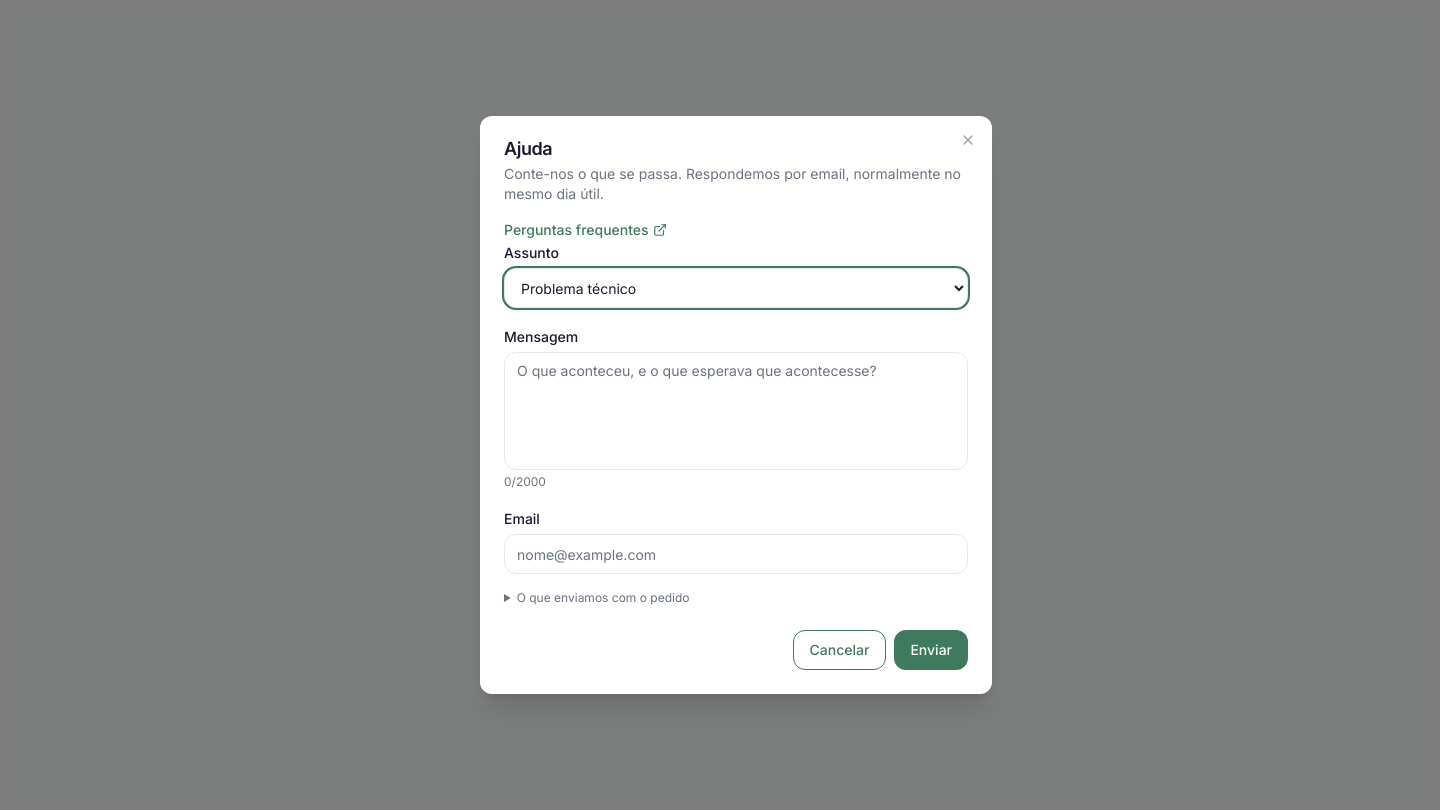
HelpDialog — signed out › sends the form with the captured context and shows the reference
This screenshot has width=1440, height=810.
Select "Pagamento" in the dropdown labelled "Assunto": {"x": 736, "y": 288} [504, 268, 968, 308]
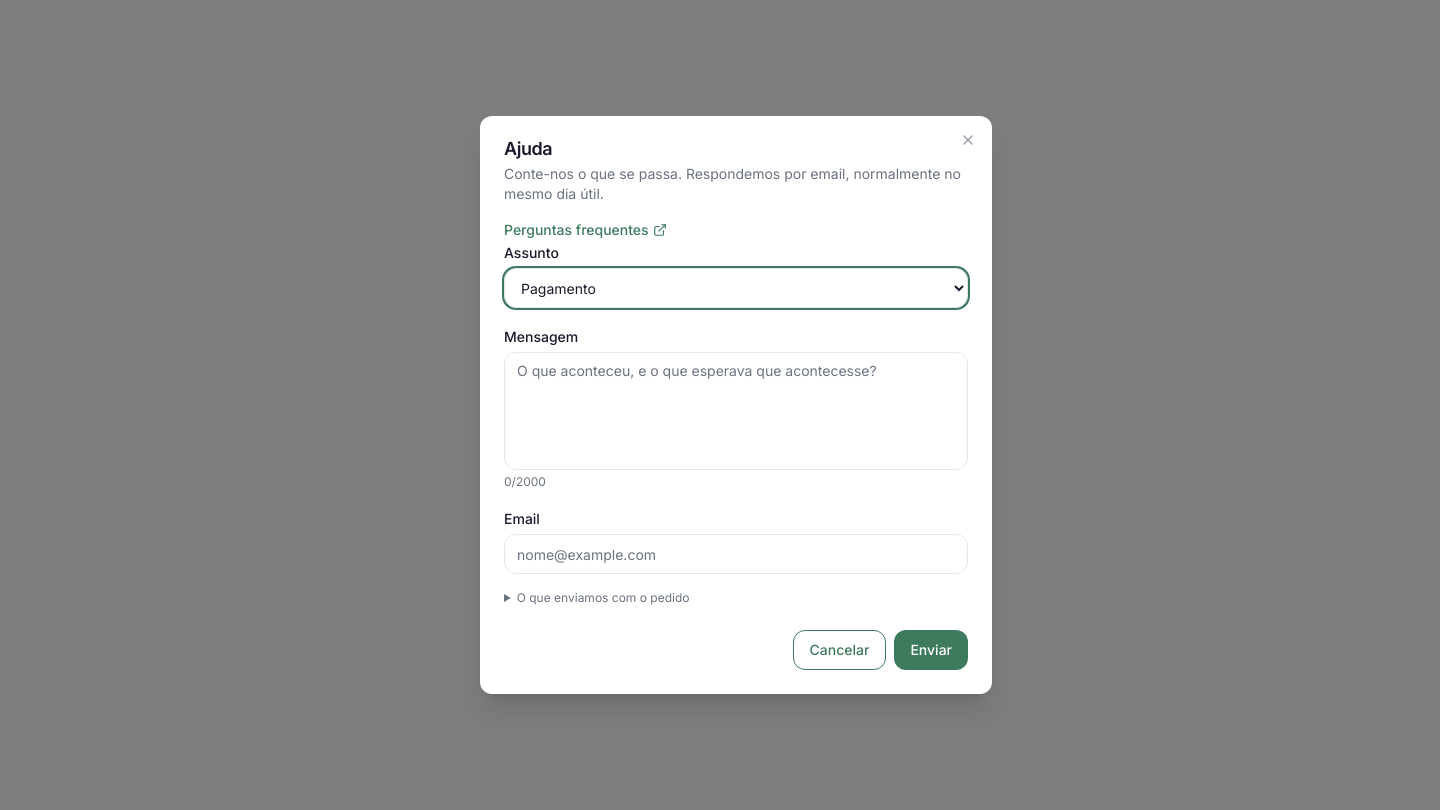
In the field labelled "Email": {"x": 736, "y": 554} [504, 534, 968, 574], type "visitante@example.com"
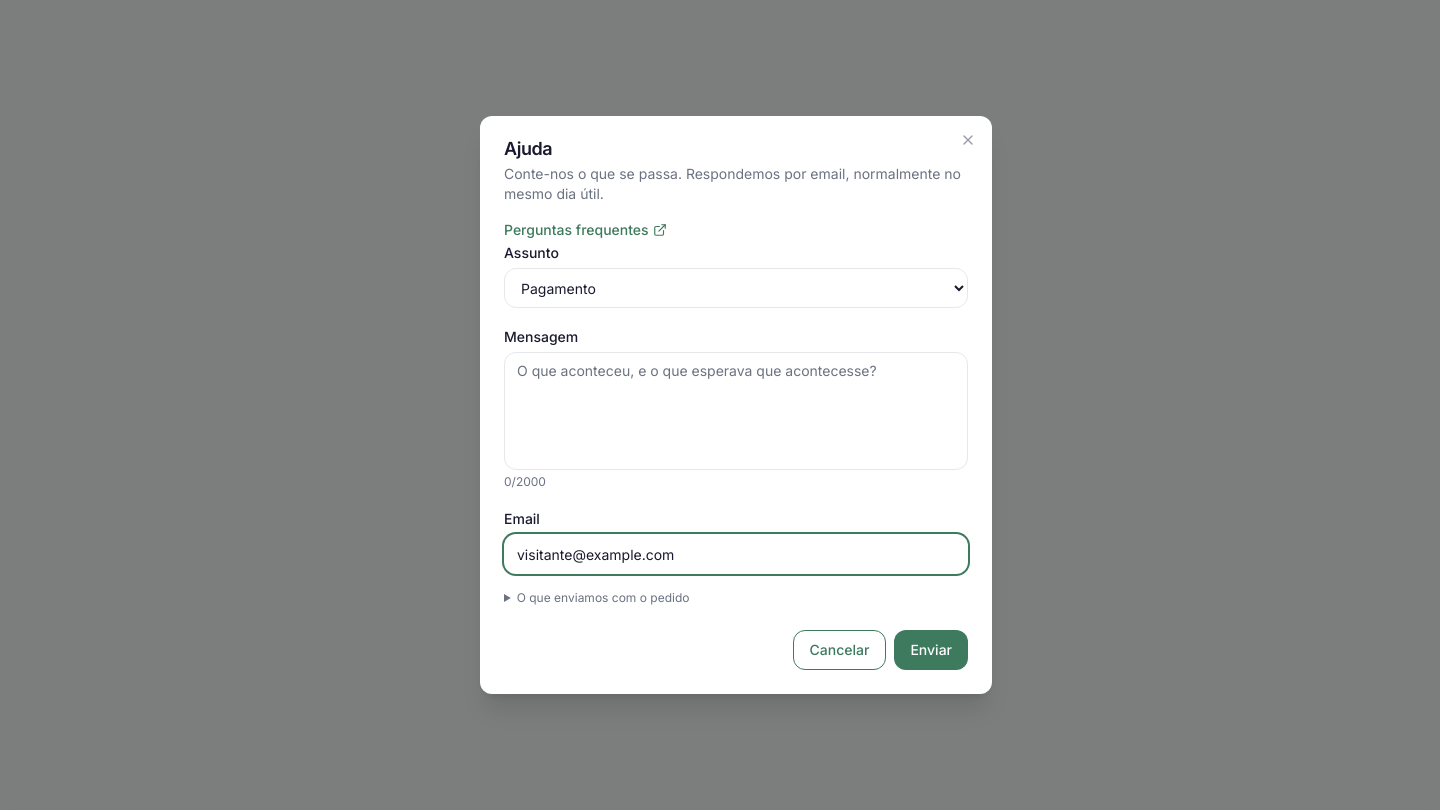
In the text box labelled "Mensagem": {"x": 736, "y": 411} [504, 352, 968, 470], type "O botão de pagamento não faz nada quando clico, já tentei duas vezes."
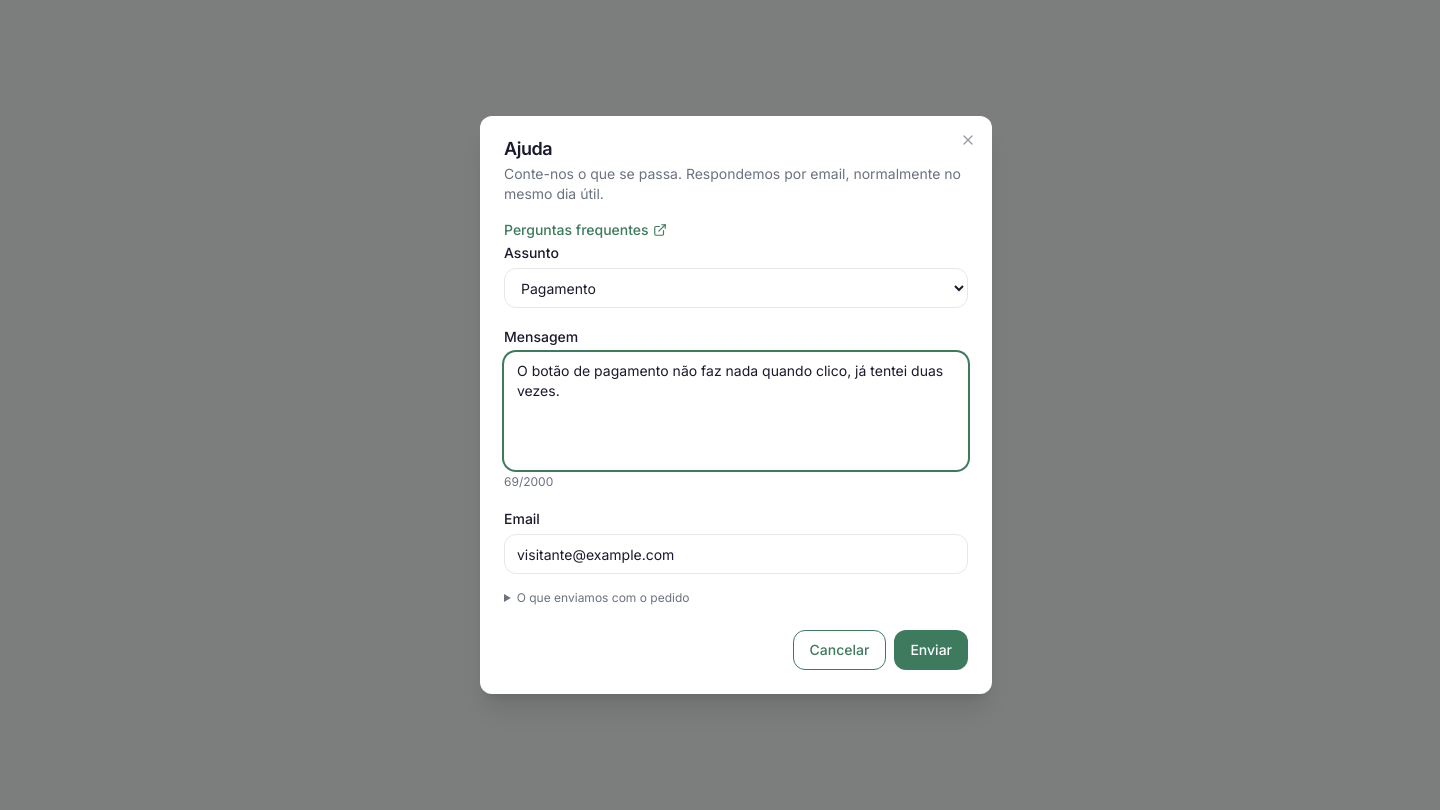
Click the button "Enviar": {"x": 931, "y": 650} [894, 630, 968, 670]
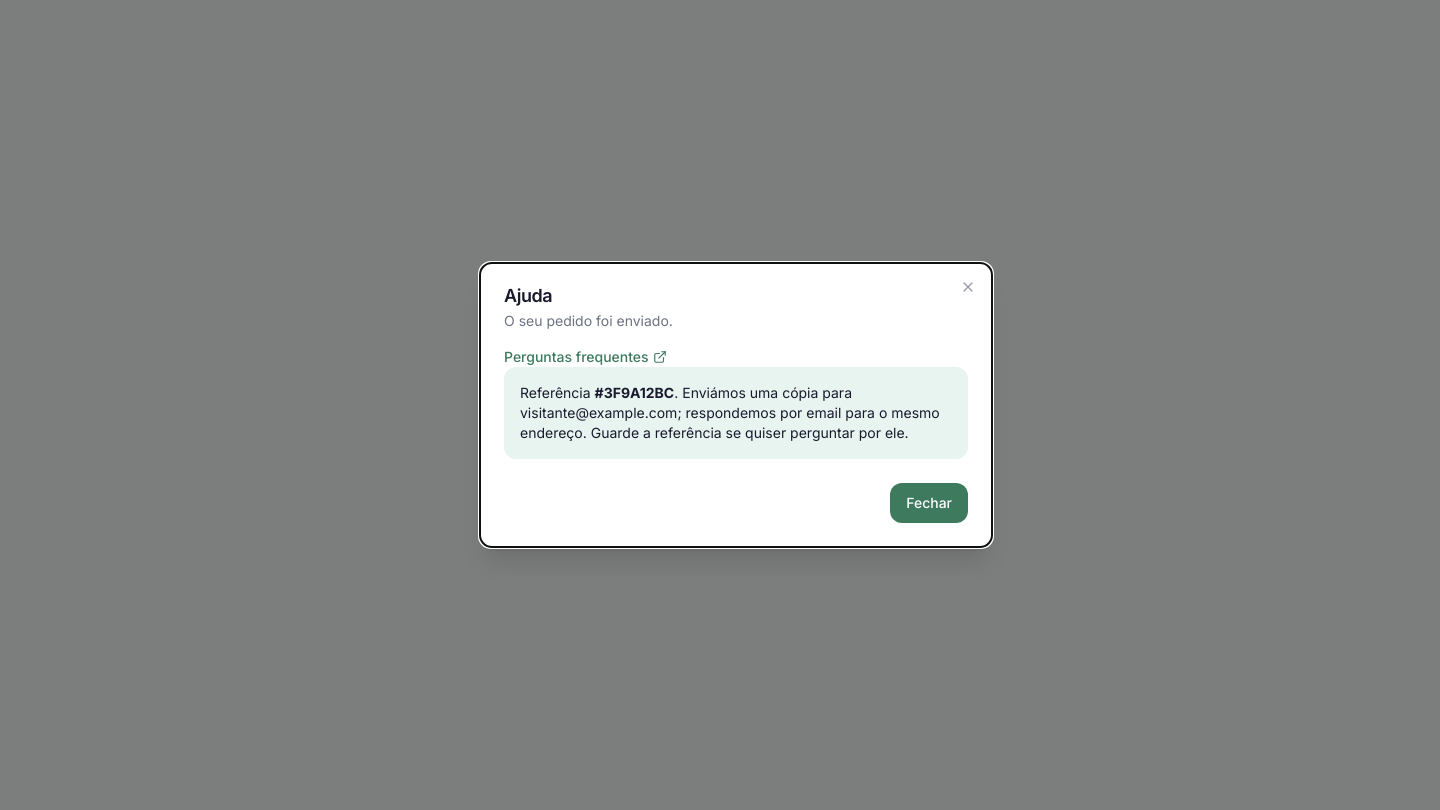
Now the text "#3F9A12BC" is shown, box [595, 384, 674, 401]
Now the message shows "Enviámos uma cópia para visitante@example.com", box [520, 384, 940, 441]
Now the label labelled "Mensagem" is gone
